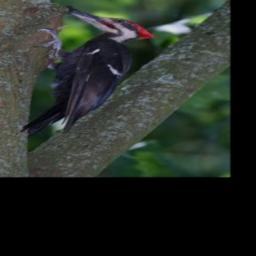Woodpecker: (20, 7, 157, 137)
